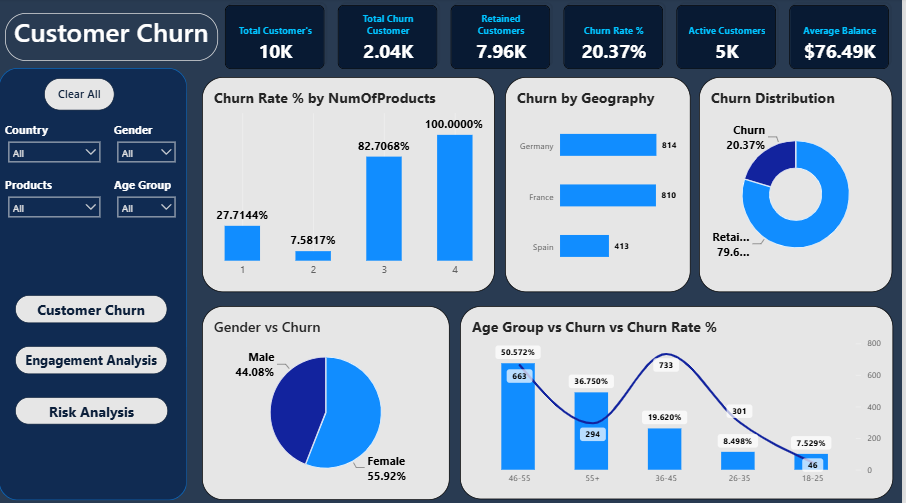

The dashboard page shown, as its layout file describes it:
{"tool":"powerbi","page":{"name":"Customer Churn","canvas":[1280,720],"ordinal":0},"visuals":[{"type":"shape","box":[1.2,98.8,266.3,612.8],"z":0},{"type":"cardVisual","fields":{"Data":["Count(European_Bank.CustomerId)","KPI'S.Total Churn Customer","KPI'S.Retained Customers","KPI'S.Churn Rate %","KPI'S.Active Customers","KPI'S.Average Balance"]},"box":[316,3.7,953.1,102.9],"z":1000},{"type":"donutChart","title":"Churn Distribution","fields":{"Category":["European_Bank.Customer Status"],"Y":["CountNonNull(European_Bank.CustomerId)"]},"box":[993.7,112.6,274.1,305.4],"z":2000},{"type":"clusteredBarChart","title":"Churn by Geography","fields":{"Category":["European_Bank.Geography"],"Y":["KPI'S.Total Churn Customer"]},"box":[718.3,112.6,262.8,305.4],"z":3000},{"type":"pieChart","title":"Gender vs Churn","fields":{"Y":["KPI'S.Total Churn Customer"],"Category":["European_Bank.Gender"]},"box":[288.8,436.3,350.7,275.1],"z":4000},{"type":"lineClusteredColumnComboChart","title":"Age Group vs Churn vs Churn Rate %","fields":{"Category":["European_Bank.Age Group"],"Y2":["KPI'S.Total Churn Customer"],"Y":["KPI'S.Churn Rate %"]},"box":[654.5,436.8,614.5,274.1],"z":5000},{"type":"clusteredColumnChart","fields":{"Category":["European_Bank.NumOfProducts"],"Y":["KPI'S.Churn Rate %"]},"box":[289.1,112.6,415.5,305.4],"z":6000},{"type":"textbox","box":[10,21.3,301.6,67.6],"z":7000},{"type":"actionButton","box":[24.2,421.4,215.6,39.7],"z":8000},{"type":"slicer","title":"Country","fields":{"Values":["European_Bank.Geography"]},"box":[10.5,175.6,139.5,120.9],"z":9000},{"type":"slicer","title":"Gender","fields":{"Values":["European_Bank.Gender"]},"box":[165.1,175.6,91.9,77.9],"z":10000},{"type":"actionButton","box":[65.7,112.8,100.4,45.9],"z":11000},{"type":"actionButton","box":[24.2,493.3,215.6,39.7],"z":12000},{"type":"actionButton","box":[23.8,565.7,216.5,38.8],"z":13000},{"type":"slicer","title":"Products","fields":{"Values":["European_Bank.Product Segment"]},"box":[10.5,253.5,139.5,86],"z":14000},{"type":"slicer","title":"Age Group","fields":{"Values":["European_Bank.Age Group"]},"box":[165.1,253.5,91.9,77.9],"z":15000}]}

Visuals, with their boxes in screenshot pixels (x1, y1, x2, y2), scaled from the page's 1280x720 canvas onto the 906x503 screenshot:
shape: 1/69/189/497
cardVisual - Count(European_Bank.CustomerId) x KPI'S.Total Churn Customer: 224/3/898/74
"Churn Distribution" donutChart: 703/79/897/292
"Churn by Geography" clusteredBarChart: 508/79/694/292
"Gender vs Churn" pieChart: 204/305/453/497
"Age Group vs Churn vs Churn Rate %" lineClusteredColumnComboChart: 463/305/898/497
clusteredColumnChart - European_Bank.NumOfProducts x KPI'S.Churn Rate %: 205/79/499/292
textbox: 7/15/221/62
actionButton: 17/294/170/322
"Country" slicer: 7/123/106/207
"Gender" slicer: 117/123/182/177
actionButton: 47/79/118/111
actionButton: 17/345/170/372
actionButton: 17/395/170/422
"Products" slicer: 7/177/106/237
"Age Group" slicer: 117/177/182/232
